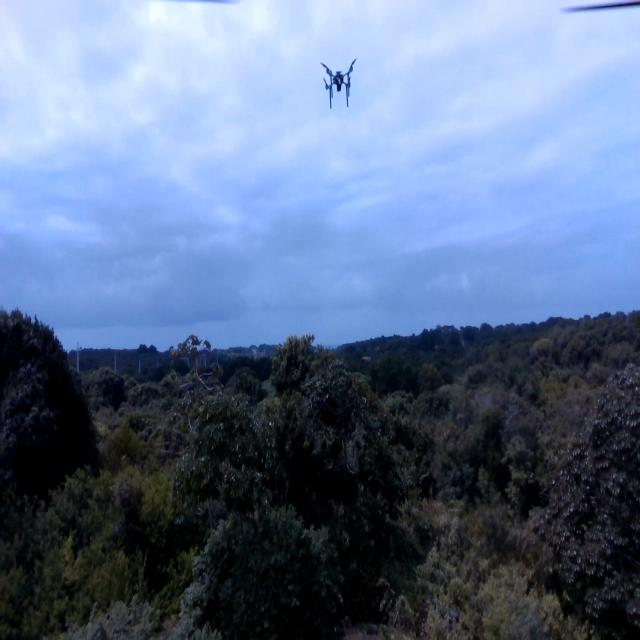-uav-: (314, 52, 362, 116)
